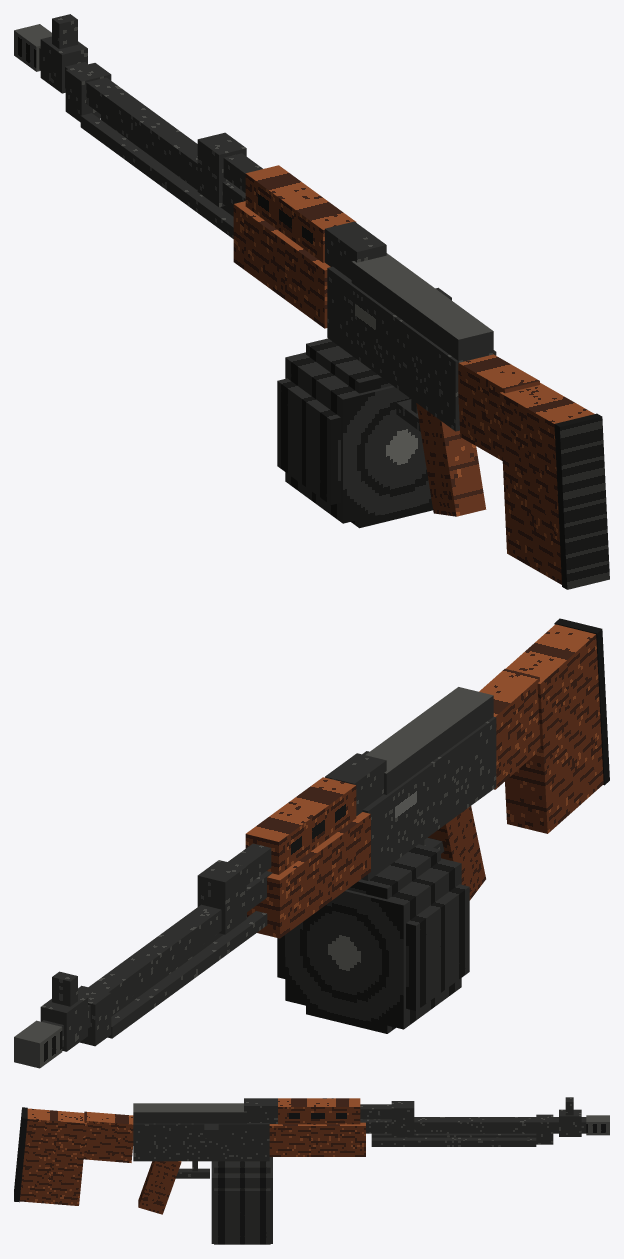
The model's file is rpk.glb.
The picture shows the model from 3 angles, top to bottom: view 1: azimuth 30°, elevation 25°; view 2: azimuth 150°, elevation 25°; view 3: azimuth 270°, elevation 25°; orthographic projection. The views are drawn at different scales.
Visible parts, largest first — view 1: drum_core, stock_butt, receiver, butt_plate, dust_cover, lower_guard, drum_wide, upper_guard, barrel, pistol_grip, stock_wrist, bipod_leg_L (+8 smaller); view 2: drum_core, stock_butt, receiver, lower_guard, drum_wide, dust_cover, upper_guard, barrel, stock_wrist, bipod_leg_L, drum_tall, gas_block (+9 smaller); view 3: stock_butt, receiver, lower_guard, drum_wide, barrel, dust_cover, stock_wrist, upper_guard, drum_core, bipod_leg_R, pistol_grip, gas_block (+10 smaller).
Boxes of the visible parts, <box> form: drum_core: <box>285,352,431,523</box>; stock_butt: <box>499,383,594,584</box>; receiver: <box>327,266,496,431</box>; butt_plate: <box>554,413,609,589</box>; dust_cover: <box>351,253,493,360</box>; lower_guard: <box>233,201,330,328</box>; drum_wide: <box>277,378,340,504</box>; upper_guard: <box>245,165,356,262</box>; barrel: <box>39,47,245,211</box>; pistol_grip: <box>416,403,486,516</box>; stock_wrist: <box>458,354,539,460</box>; bipod_leg_L: <box>80,113,233,238</box>; drum_core: <box>285,858,461,1029</box>; stock_butt: <box>505,624,603,833</box>; receiver: <box>361,717,496,880</box>; lower_guard: <box>247,812,370,938</box>; drum_wide: <box>277,884,469,1010</box>; dust_cover: <box>365,687,493,794</box>; upper_guard: <box>245,777,356,874</box>; barrel: <box>41,871,272,1046</box>; stock_wrist: <box>479,669,540,789</box>; bipod_leg_L: <box>107,911,267,1038</box>; drum_tall: <box>306,844,440,1033</box>; gas_block: <box>197,860,246,934</box>; stock_butt: <box>19,1108,86,1205</box>; receiver: <box>133,1123,269,1161</box>; lower_guard: <box>269,1122,365,1156</box>; drum_wide: <box>214,1188,270,1236</box>; barrel: <box>360,1117,586,1133</box>; dust_cover: <box>133,1103,246,1123</box>; stock_wrist: <box>83,1111,133,1162</box>; upper_guard: <box>278,1098,360,1124</box>; drum_core: <box>211,1157,272,1243</box>; bipod_leg_R: <box>371,1137,536,1146</box>; pistol_grip: <box>138,1161,181,1214</box>; gas_block: <box>391,1101,414,1135</box>.
Size of the model in its own units: 0.15 by 0.262 by 1.05.
Materials: 1 (1 with a texture image).
